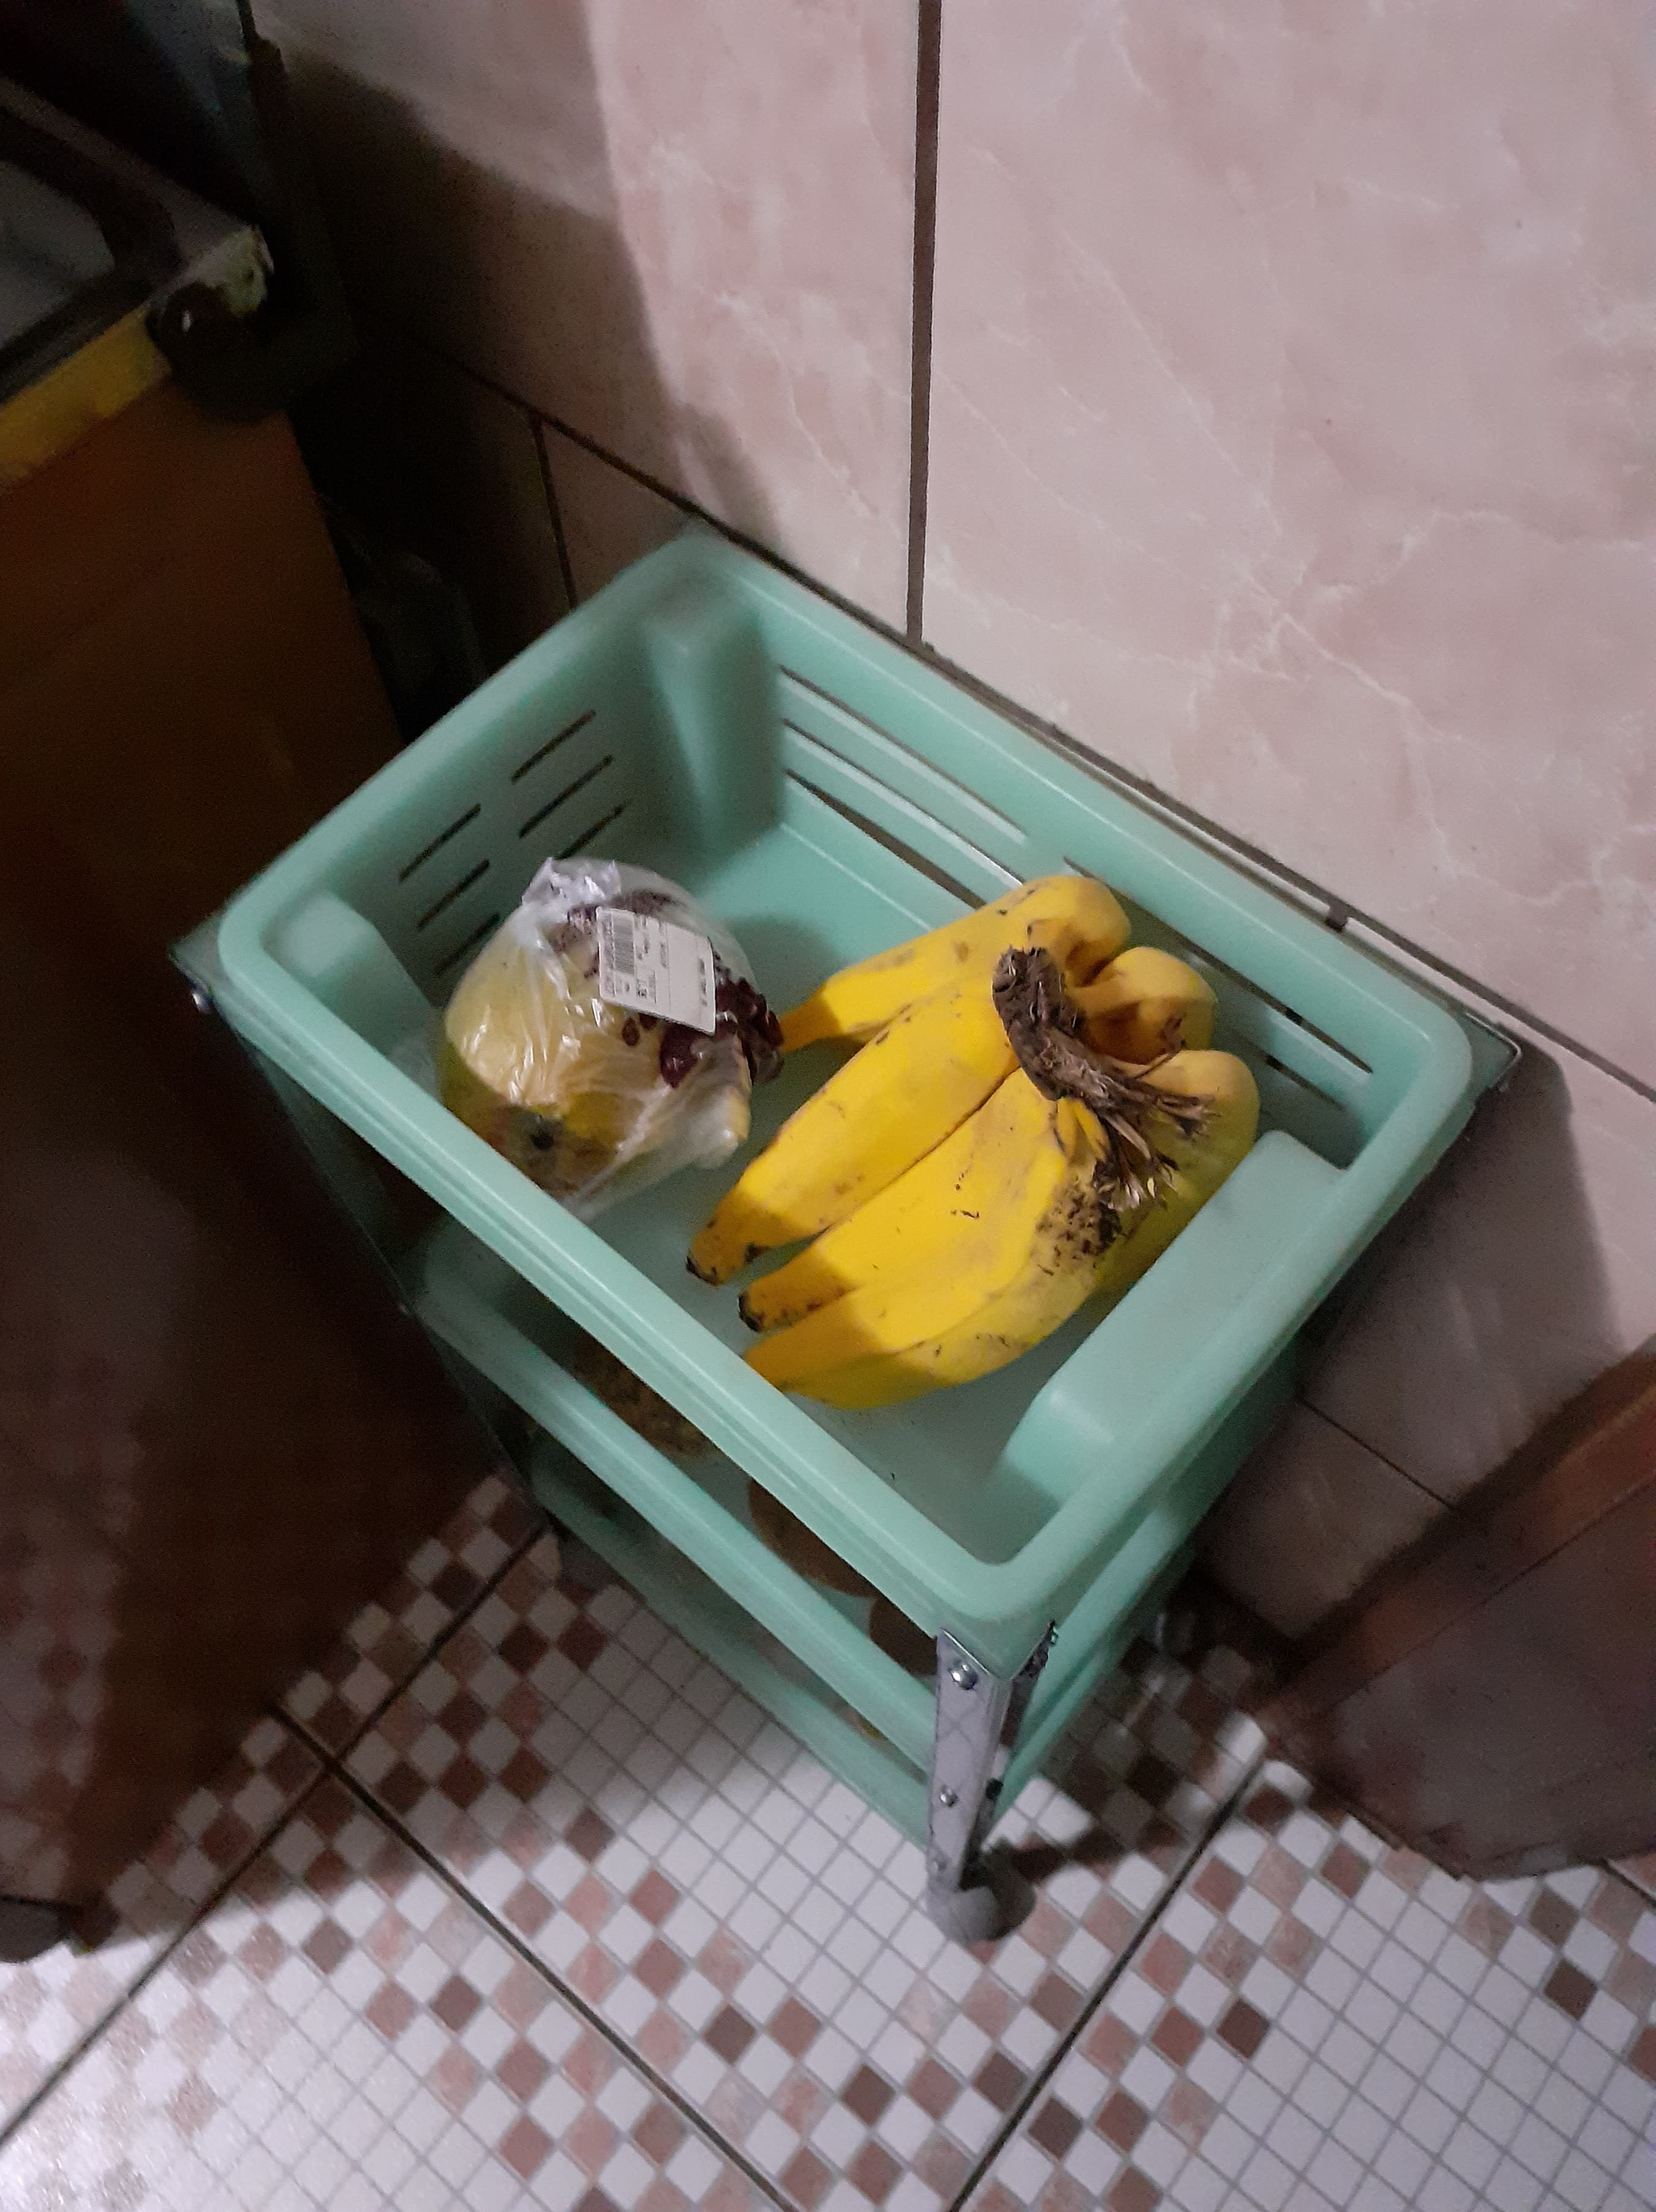banana: (710, 857, 1299, 1422)
